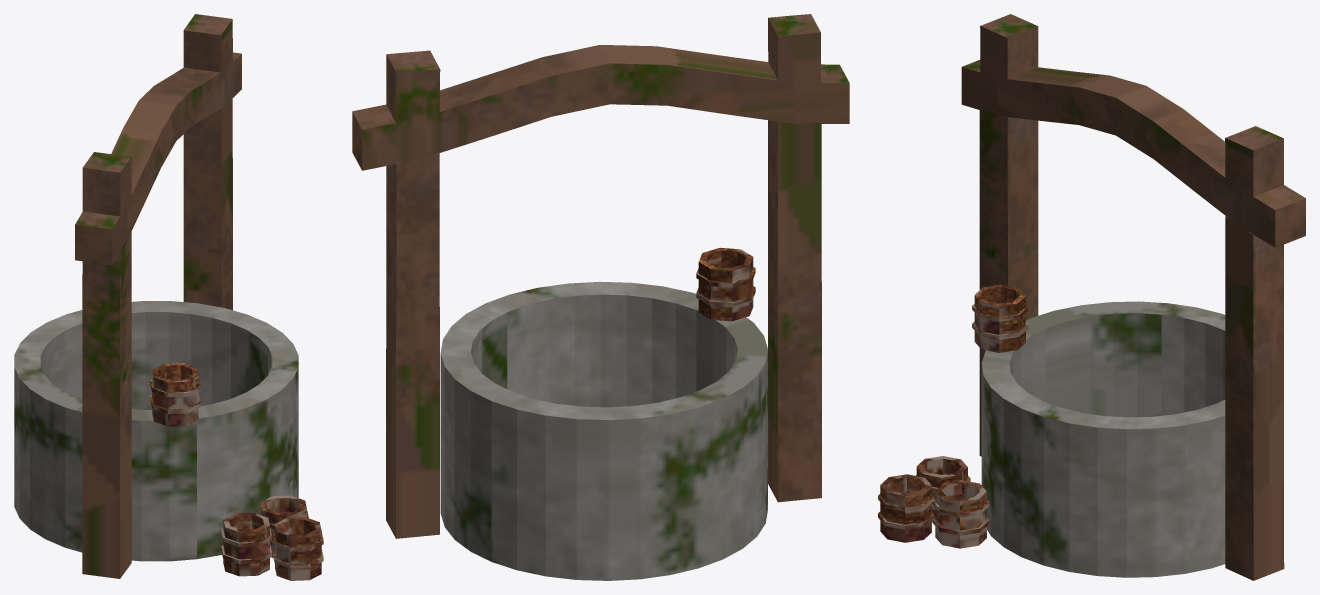
File: Pozonew.obj
The picture shows the model from 3 angles, left to right: view 1: azimuth 30°, elevation 25°; view 2: azimuth 150°, elevation 25°; view 3: azimuth 270°, elevation 25°; orthographic projection. The views are drawn at different scales.
Visible parts, largest first — view 1: Pozonew; view 2: Pozonew; view 3: Pozonew.
Boxes of the visible parts, bbox=[...] form: Pozonew: bbox=[14, 14, 323, 580]; Pozonew: bbox=[352, 14, 849, 580]; Pozonew: bbox=[878, 14, 1305, 580].
Size of the model in its own units: 3.25 by 4.22 by 3.78.
3 materials, 3 textured.
